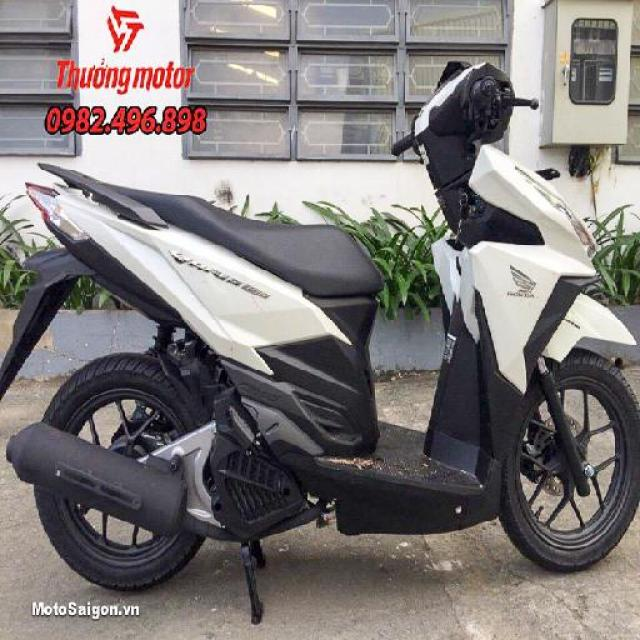All: (2, 42, 640, 590)
Head: (390, 60, 540, 162)
Tail: (28, 153, 112, 245)
